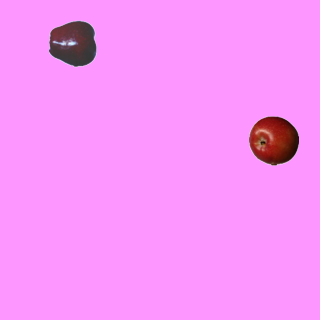Apple Braeburn: (248, 115, 298, 165)
Apple Red Delicious: (48, 18, 98, 68)
